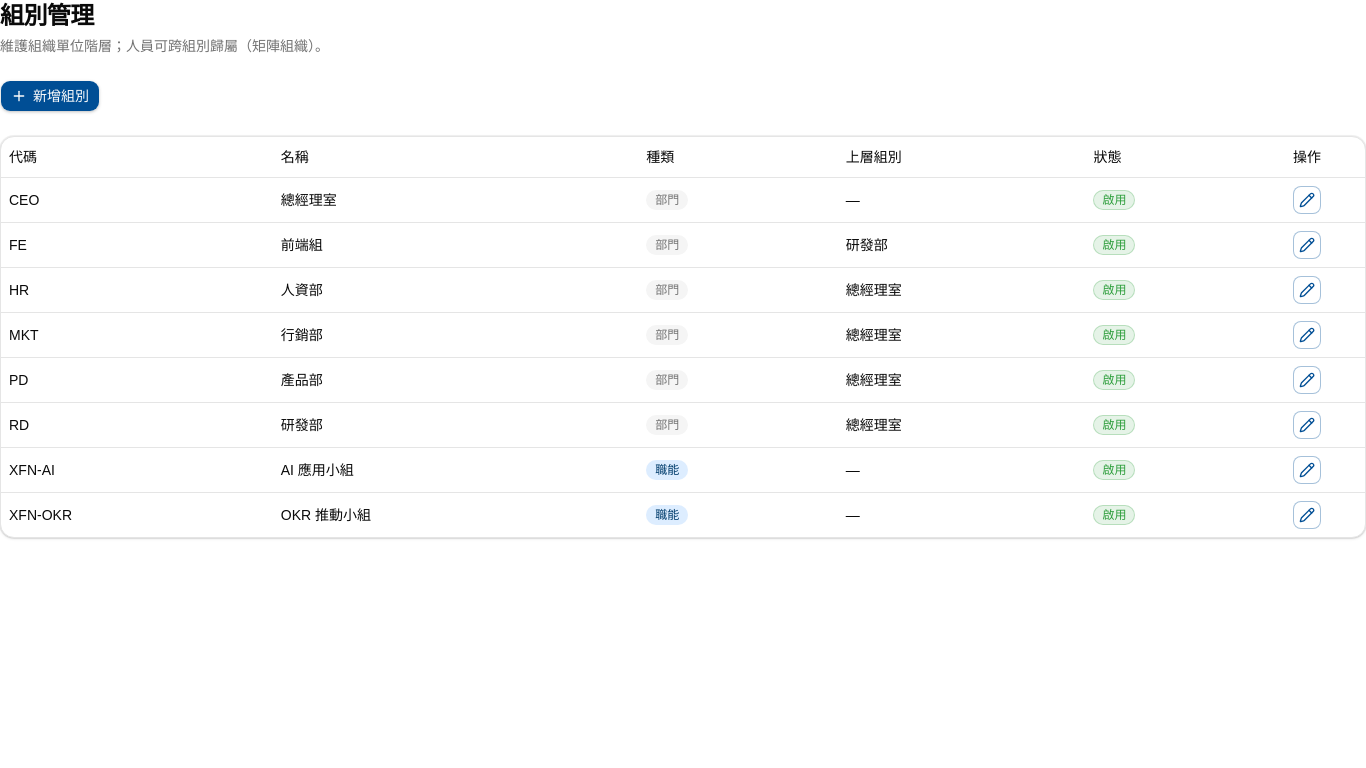
Test: GroupsPage 組別管理 › 點擊列上的編輯鈕會以「編輯組別」標題開啟表單
This screenshot has width=1366, height=768.
Click the button named "編輯" in the row of "RD".
click(1307, 424)  # box [1293, 410, 1321, 438]
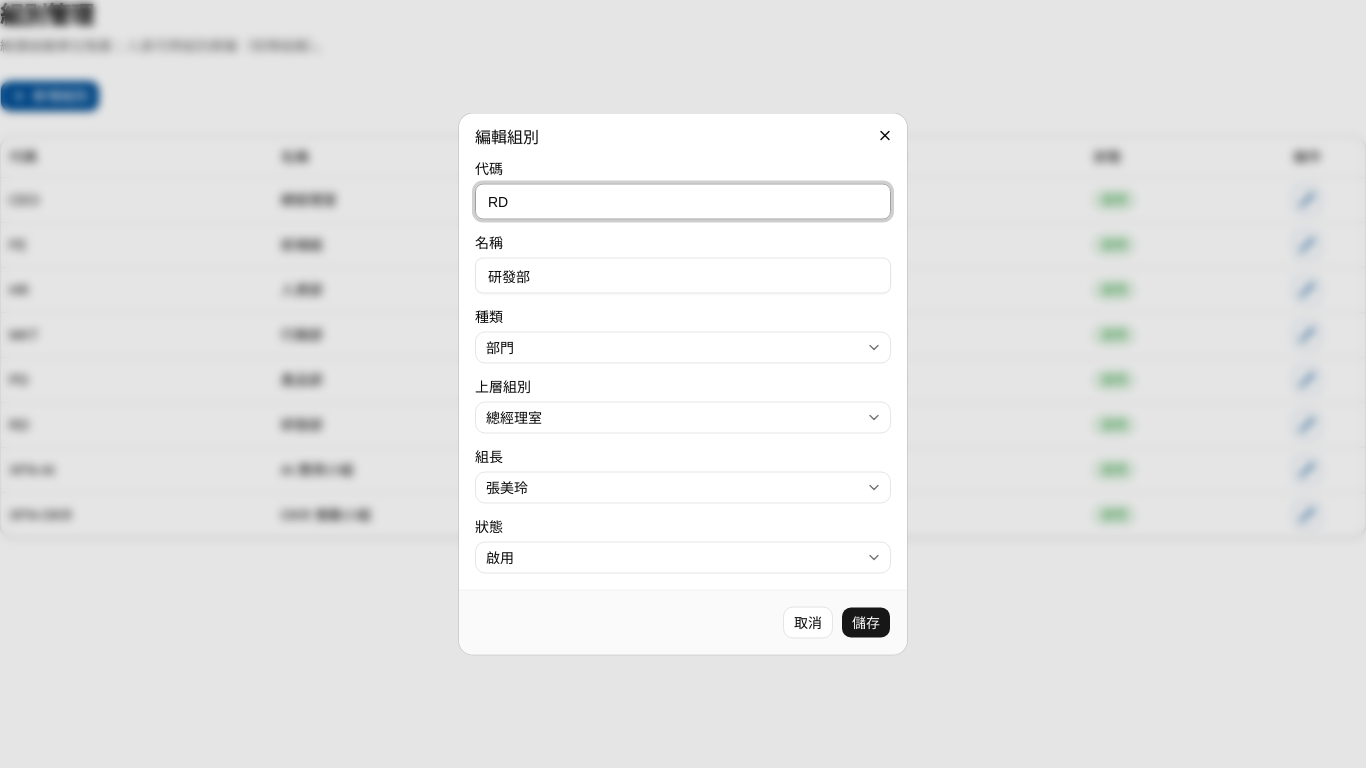
Expected: the dialog is shown, [459, 114, 907, 654]
Expected: the heading "編輯組別" is shown, [475, 128, 539, 146]
Expected: the field labelled "代碼" holds "RD", [475, 184, 891, 220]
